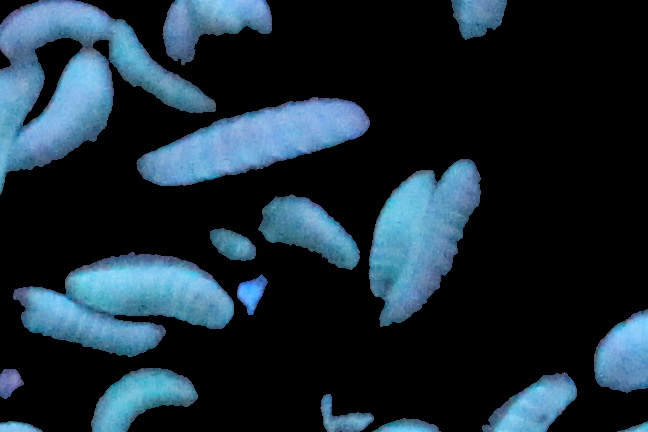larvae: (138, 99, 371, 191), (383, 160, 483, 331), (8, 54, 114, 178), (65, 260, 240, 331), (6, 283, 163, 362), (104, 17, 220, 115), (245, 182, 361, 267), (363, 168, 438, 297), (79, 366, 203, 432), (165, 1, 273, 61), (1, 1, 120, 54), (1, 60, 43, 205), (590, 299, 648, 399), (452, 1, 516, 43)
